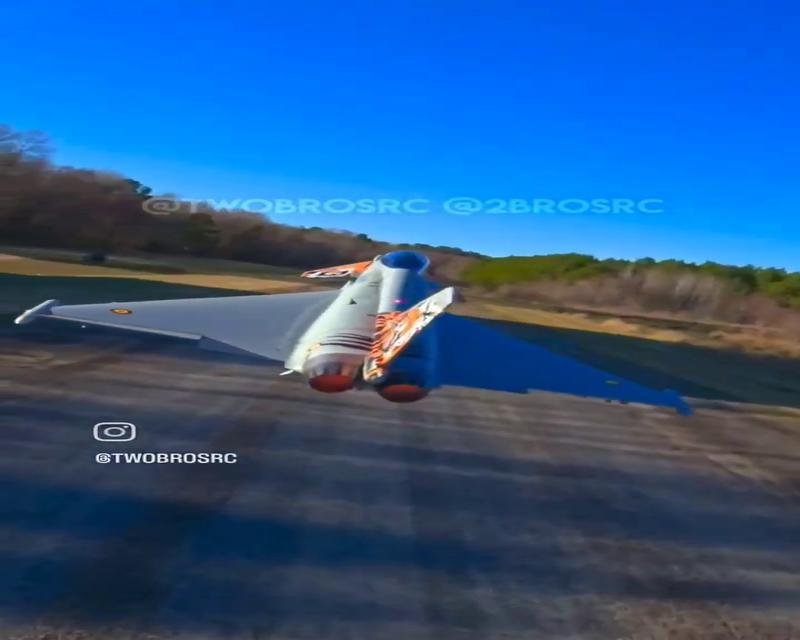UAV: (15, 249, 693, 413)
